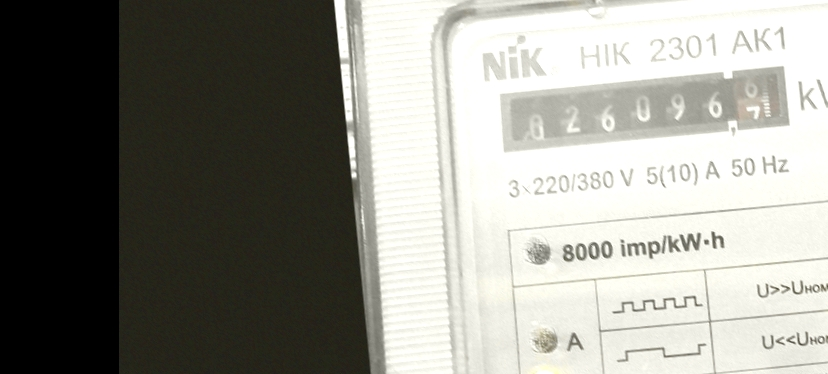0: (631, 90, 654, 127), (524, 109, 547, 142)
2: (559, 101, 584, 138)
6: (596, 100, 619, 136), (703, 86, 725, 121), (739, 72, 761, 101)
7: (743, 101, 763, 124)
9: (667, 90, 689, 123)
screen: (487, 55, 799, 166)
